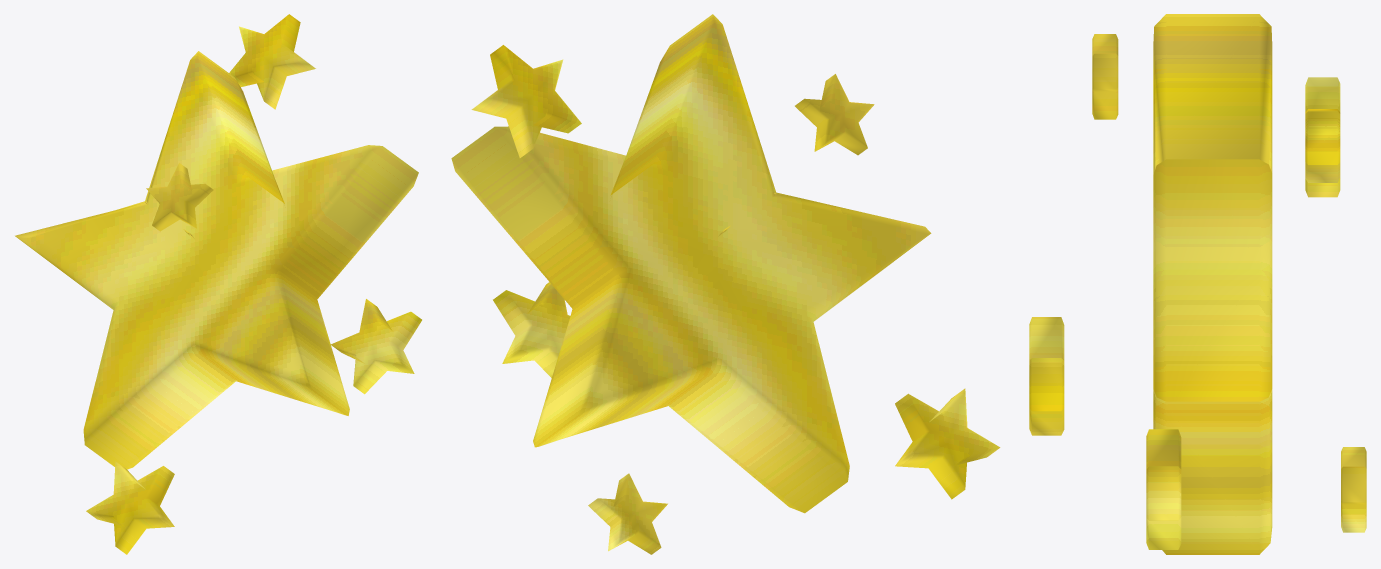
The model's file is ps2_save-icons_dancingwiththestars.glb.
3 renders of one model, left to right at view 1: azimuth 30°, elevation 25°; view 2: azimuth 150°, elevation 25°; view 3: azimuth 270°, elevation 25°, orthographic. The views are drawn at different scales.
Parts seen in each view (by area): view 1: icon.ico; view 2: icon.ico; view 3: icon.ico.
Boxes of the visible parts, x1,y1,x2,y2 form: icon.ico: (15, 14, 421, 554); icon.ico: (451, 14, 1000, 554); icon.ico: (1029, 14, 1366, 554).
Bounding box in the file's own units: 4.83 × 4.94 × 2.95.
Materials: 1 (1 with a texture image).
